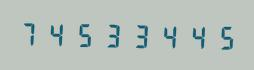five: (71, 19, 97, 49), (206, 21, 232, 51)
four: (44, 18, 70, 49), (179, 20, 205, 51), (152, 20, 178, 50)
seven: (17, 18, 43, 48)
three: (125, 19, 151, 50), (98, 19, 124, 49)
